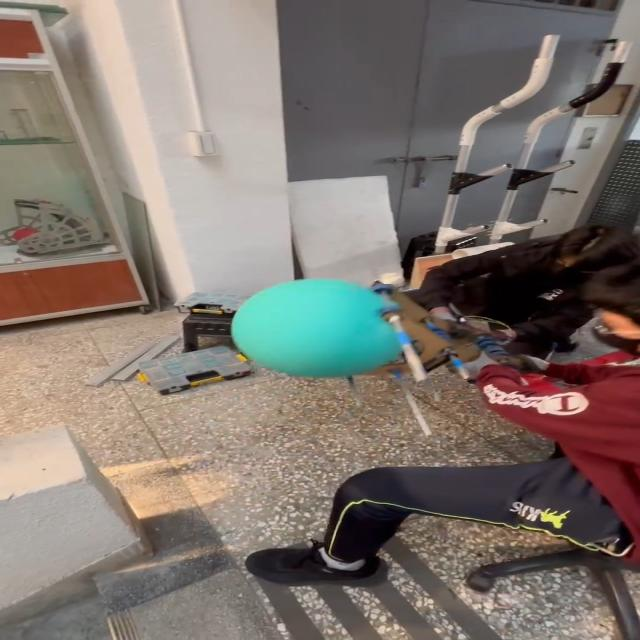ALGAE: (228, 277, 406, 379)
